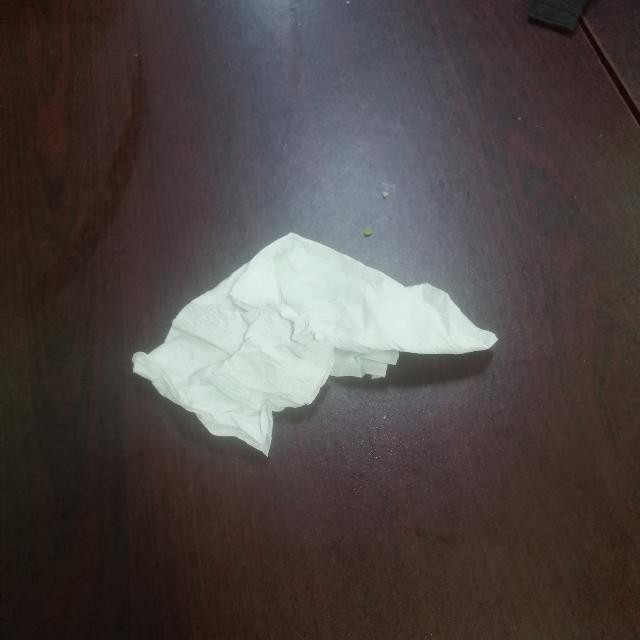kitchen paper: (134, 234, 501, 456)
